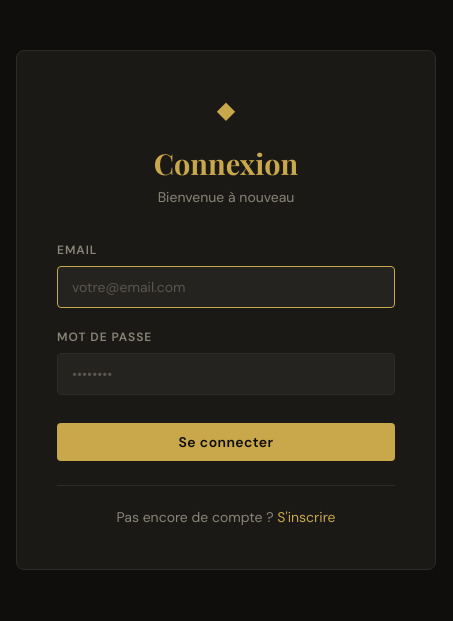
Test: Login page › shows generic error when no message from API
The width and height of the screenshot is (453, 621).
Type "test@test.com" into the field with placeholder "votre@email.com". click: (226, 287)
box: left=57, top=266, right=395, bottom=308
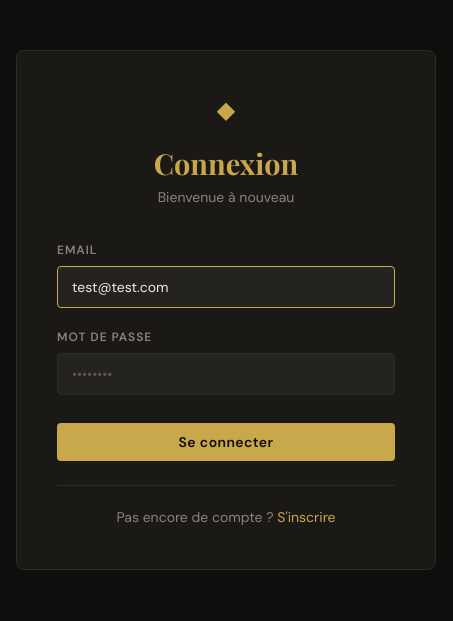
Type "wrong" into the password field with placeholder "••••••••". click: (226, 374)
box: left=57, top=353, right=395, bottom=395
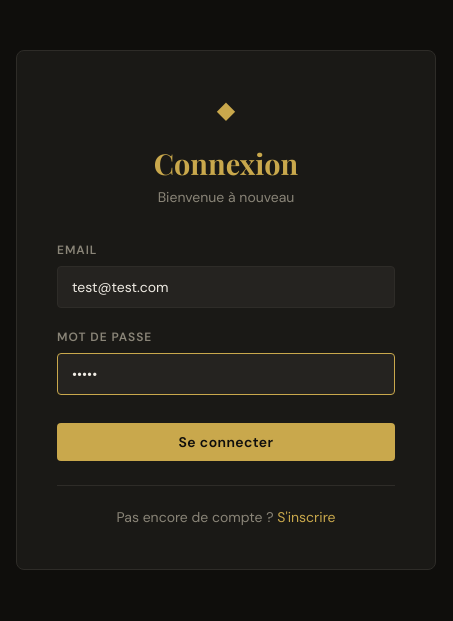
Click the button "Se connecter". click: (226, 442)
box: left=57, top=423, right=395, bottom=461
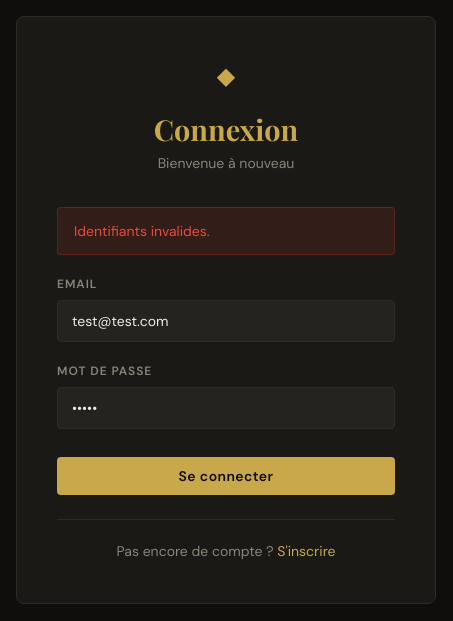
Expected: the text "Identifiants invalides." is shown, left=57, top=207, right=395, bottom=255
